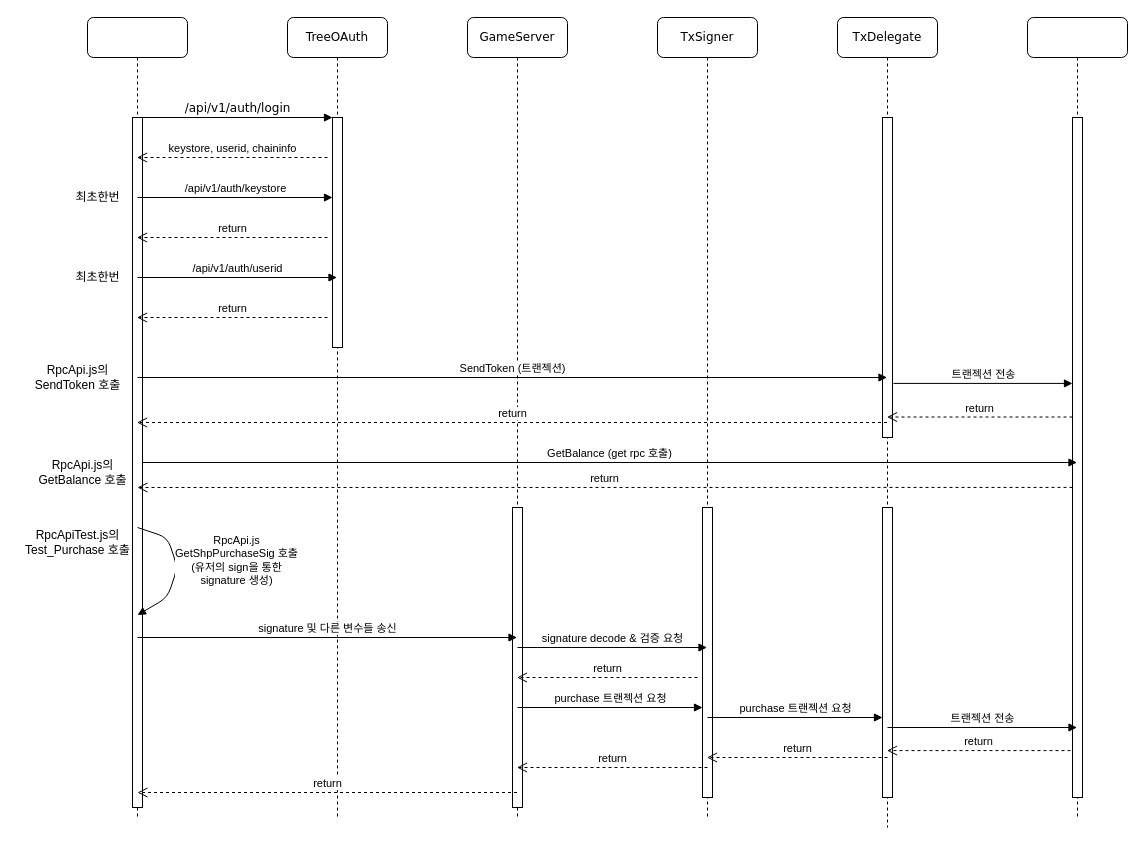
Image size: 1145x845. Some labels were removed from this diagram. The shapes that lost their labels are listed below. From the top down, each one's box as (x1, y1, x2, y2) in pixels, then its label:
(86, 16, 188, 818): client
(1026, 16, 1128, 818): Blcokchain
